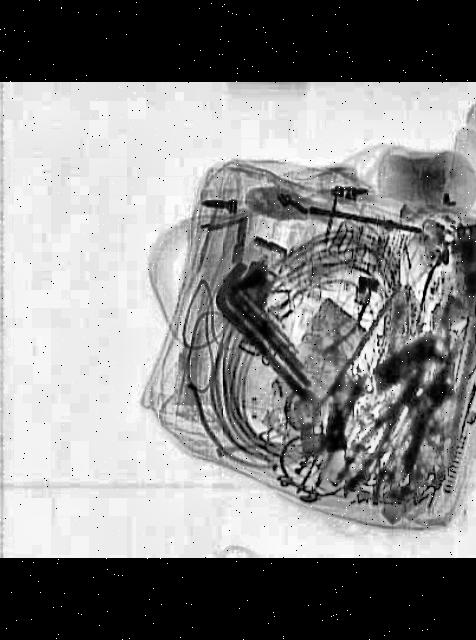Pliers: (324, 365, 432, 497)
